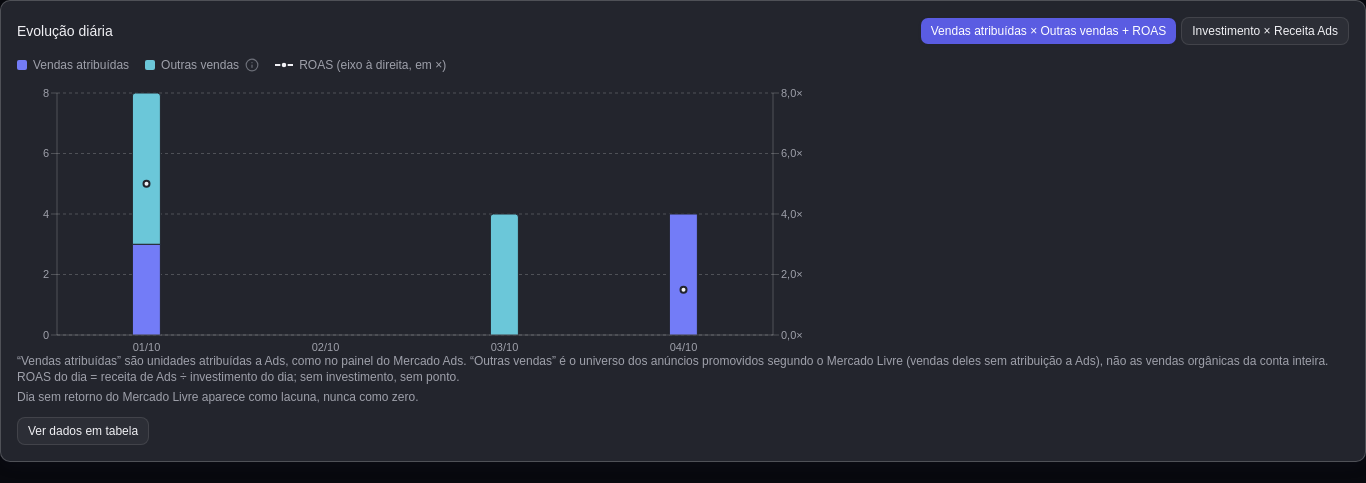
Test: SerieDiaria › troca para Investimento × Receita Ads
Click the button "Investimento × Receita Ads". click: (1265, 31)
box: top-left (1181, 17), bottom-right (1349, 45)
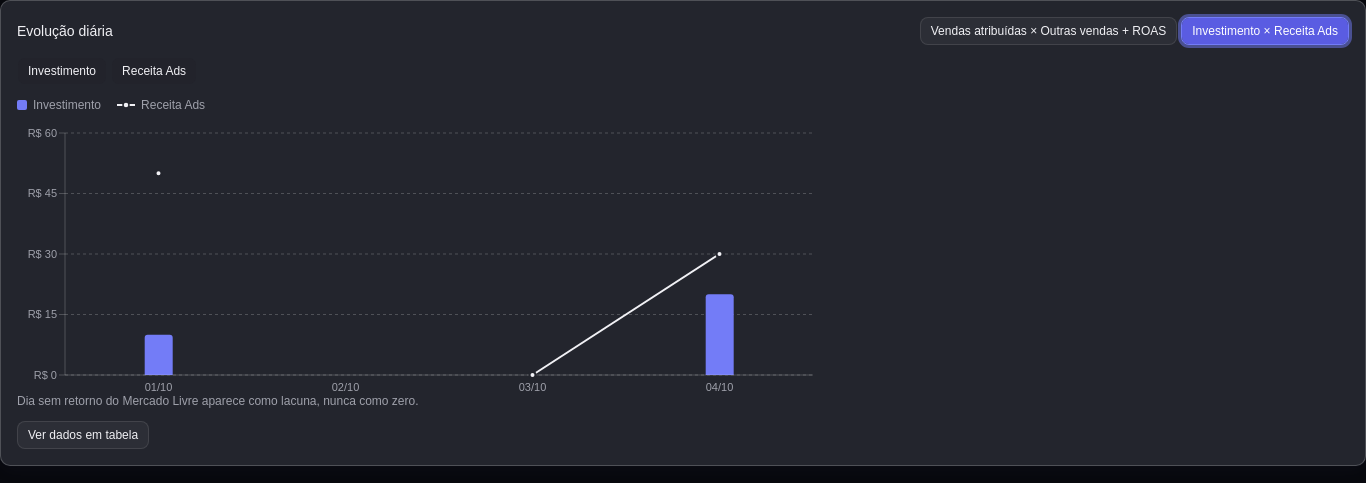
Expected: the list item "Investimento" is shown, top-left (17, 97), bottom-right (101, 113)
Expected: the list item "Receita Ads" is shown, top-left (117, 97), bottom-right (205, 113)
